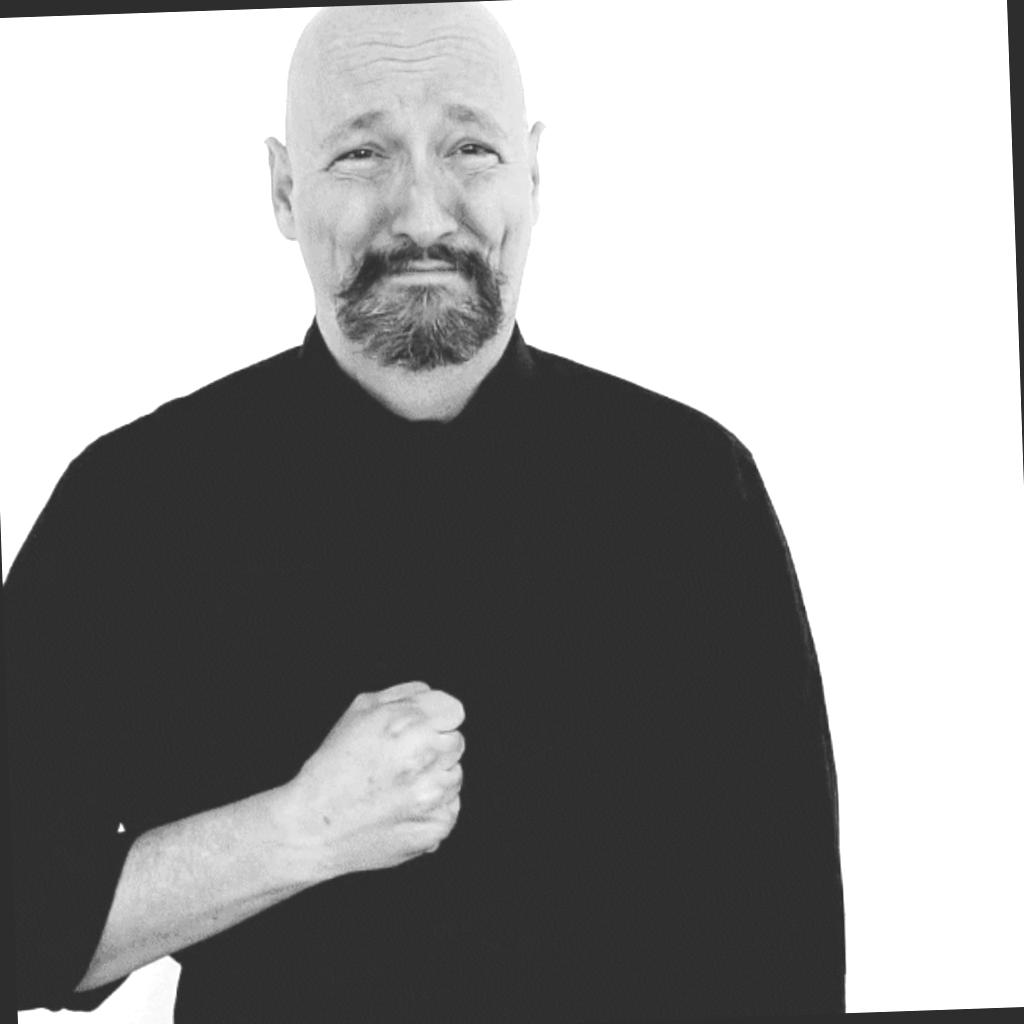sorry: (288, 678, 468, 872)
